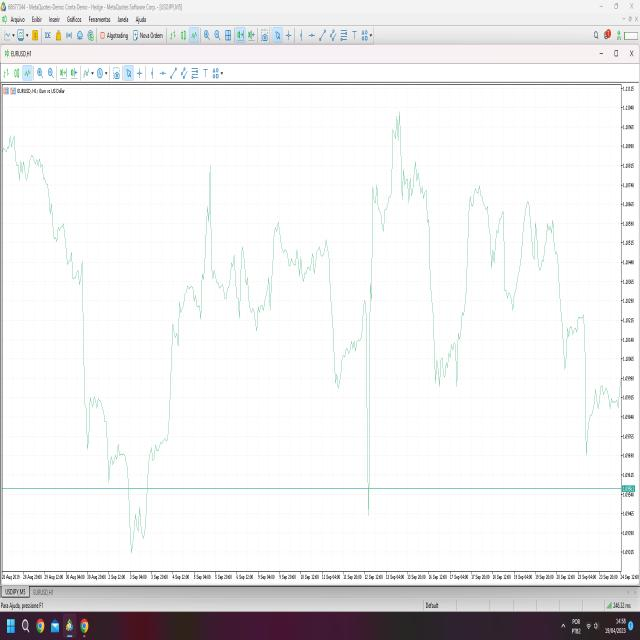bandeira_baixa: (547, 209, 583, 373), (77, 270, 107, 456), (580, 326, 614, 459), (96, 354, 124, 482)
fundo_duplo: (119, 444, 156, 566)
oco: (262, 97, 517, 520)
oco_inv: (478, 169, 552, 315)
